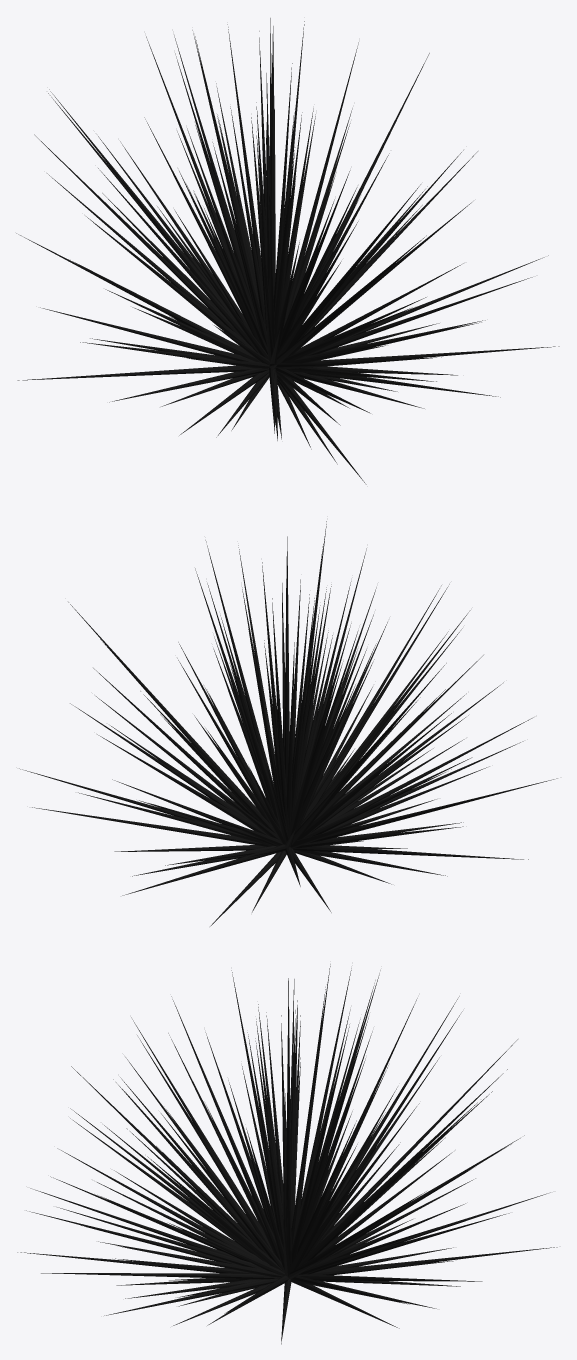
Rendered from spined.glb.
The picture shows the model from 3 angles, top to bottom: view 1: azimuth 30°, elevation 25°; view 2: azimuth 150°, elevation 25°; view 3: azimuth 270°, elevation 25°; orthographic projection. The views are drawn at different scales.
Parts seen in each view (by area): view 1: pCone28; view 2: pCone28; view 3: pCone28.
Boxes of the visible parts, <box> form: pCone28: <box>16,18,559,484</box>; pCone28: <box>19,521,557,926</box>; pCone28: <box>17,964,557,1344</box>.
Size of the model in its own units: 802 by 565 by 819.
Materials: 1 (1 with a texture image).
